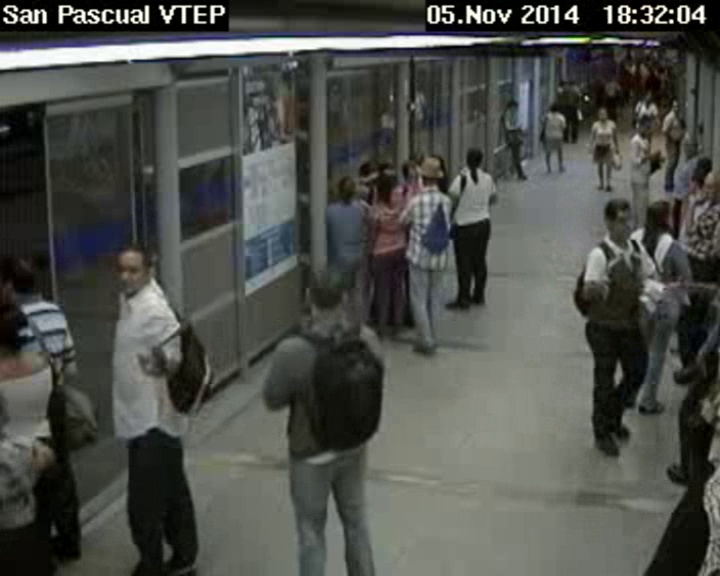person: (301, 258, 348, 317), (1, 299, 46, 353), (115, 243, 158, 294), (5, 257, 50, 299), (600, 194, 637, 241), (645, 196, 676, 239), (415, 154, 443, 188), (334, 174, 359, 205), (697, 171, 720, 202), (689, 166, 709, 195), (373, 160, 395, 186), (399, 158, 420, 184), (463, 145, 486, 168), (678, 133, 700, 155), (691, 155, 717, 171), (637, 114, 651, 137), (595, 107, 609, 125), (546, 98, 560, 114), (639, 88, 654, 102), (508, 100, 520, 116), (669, 101, 681, 112), (566, 80, 576, 89), (606, 74, 614, 82)
